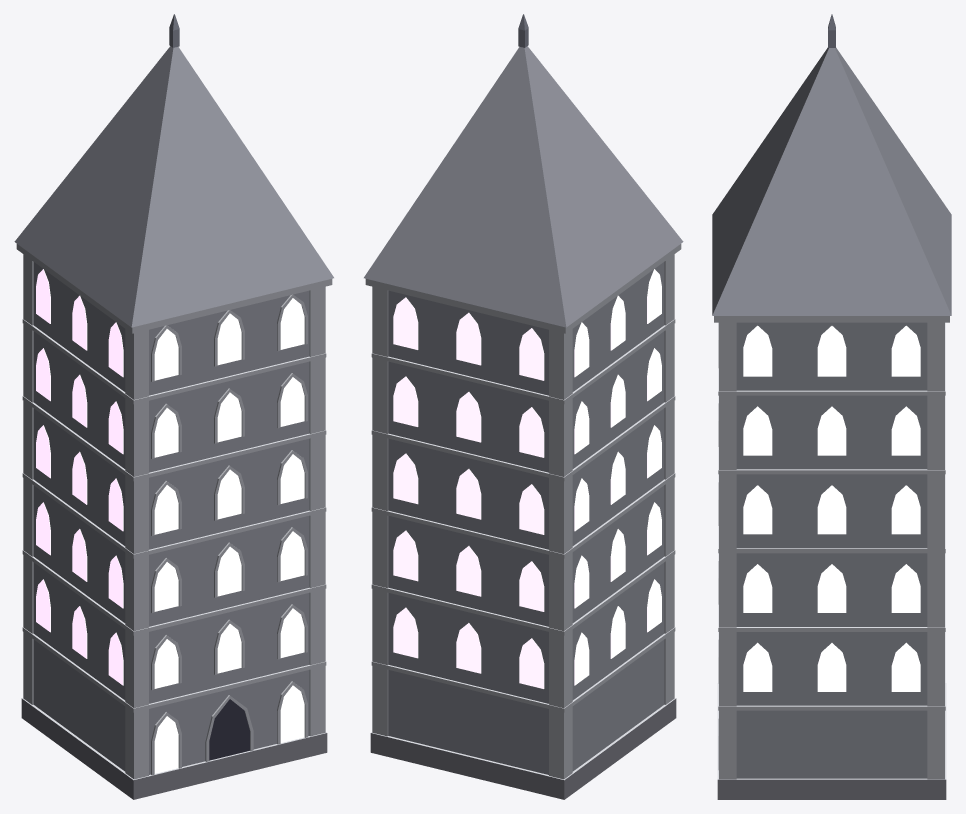
Rendered from AR_Lote_Alto.fbx.
3 renders of one model, left to right at view 1: azimuth 30°, elevation 25°; view 2: azimuth 150°, elevation 25°; view 3: azimuth 270°, elevation 25°, orthographic. The views are drawn at different scales.
Visible parts, largest first — view 1: AR_Lote_Alto; view 2: AR_Lote_Alto; view 3: AR_Lote_Alto.
Boxes of the visible parts, x1=… form: AR_Lote_Alto: x1=14, y1=14, x2=333, y2=799; AR_Lote_Alto: x1=364, y1=14, x2=683, y2=799; AR_Lote_Alto: x1=712, y1=14, x2=951, y2=799.
Bounding box in the file's own units: 10.75 × 36.5 × 10.75.
